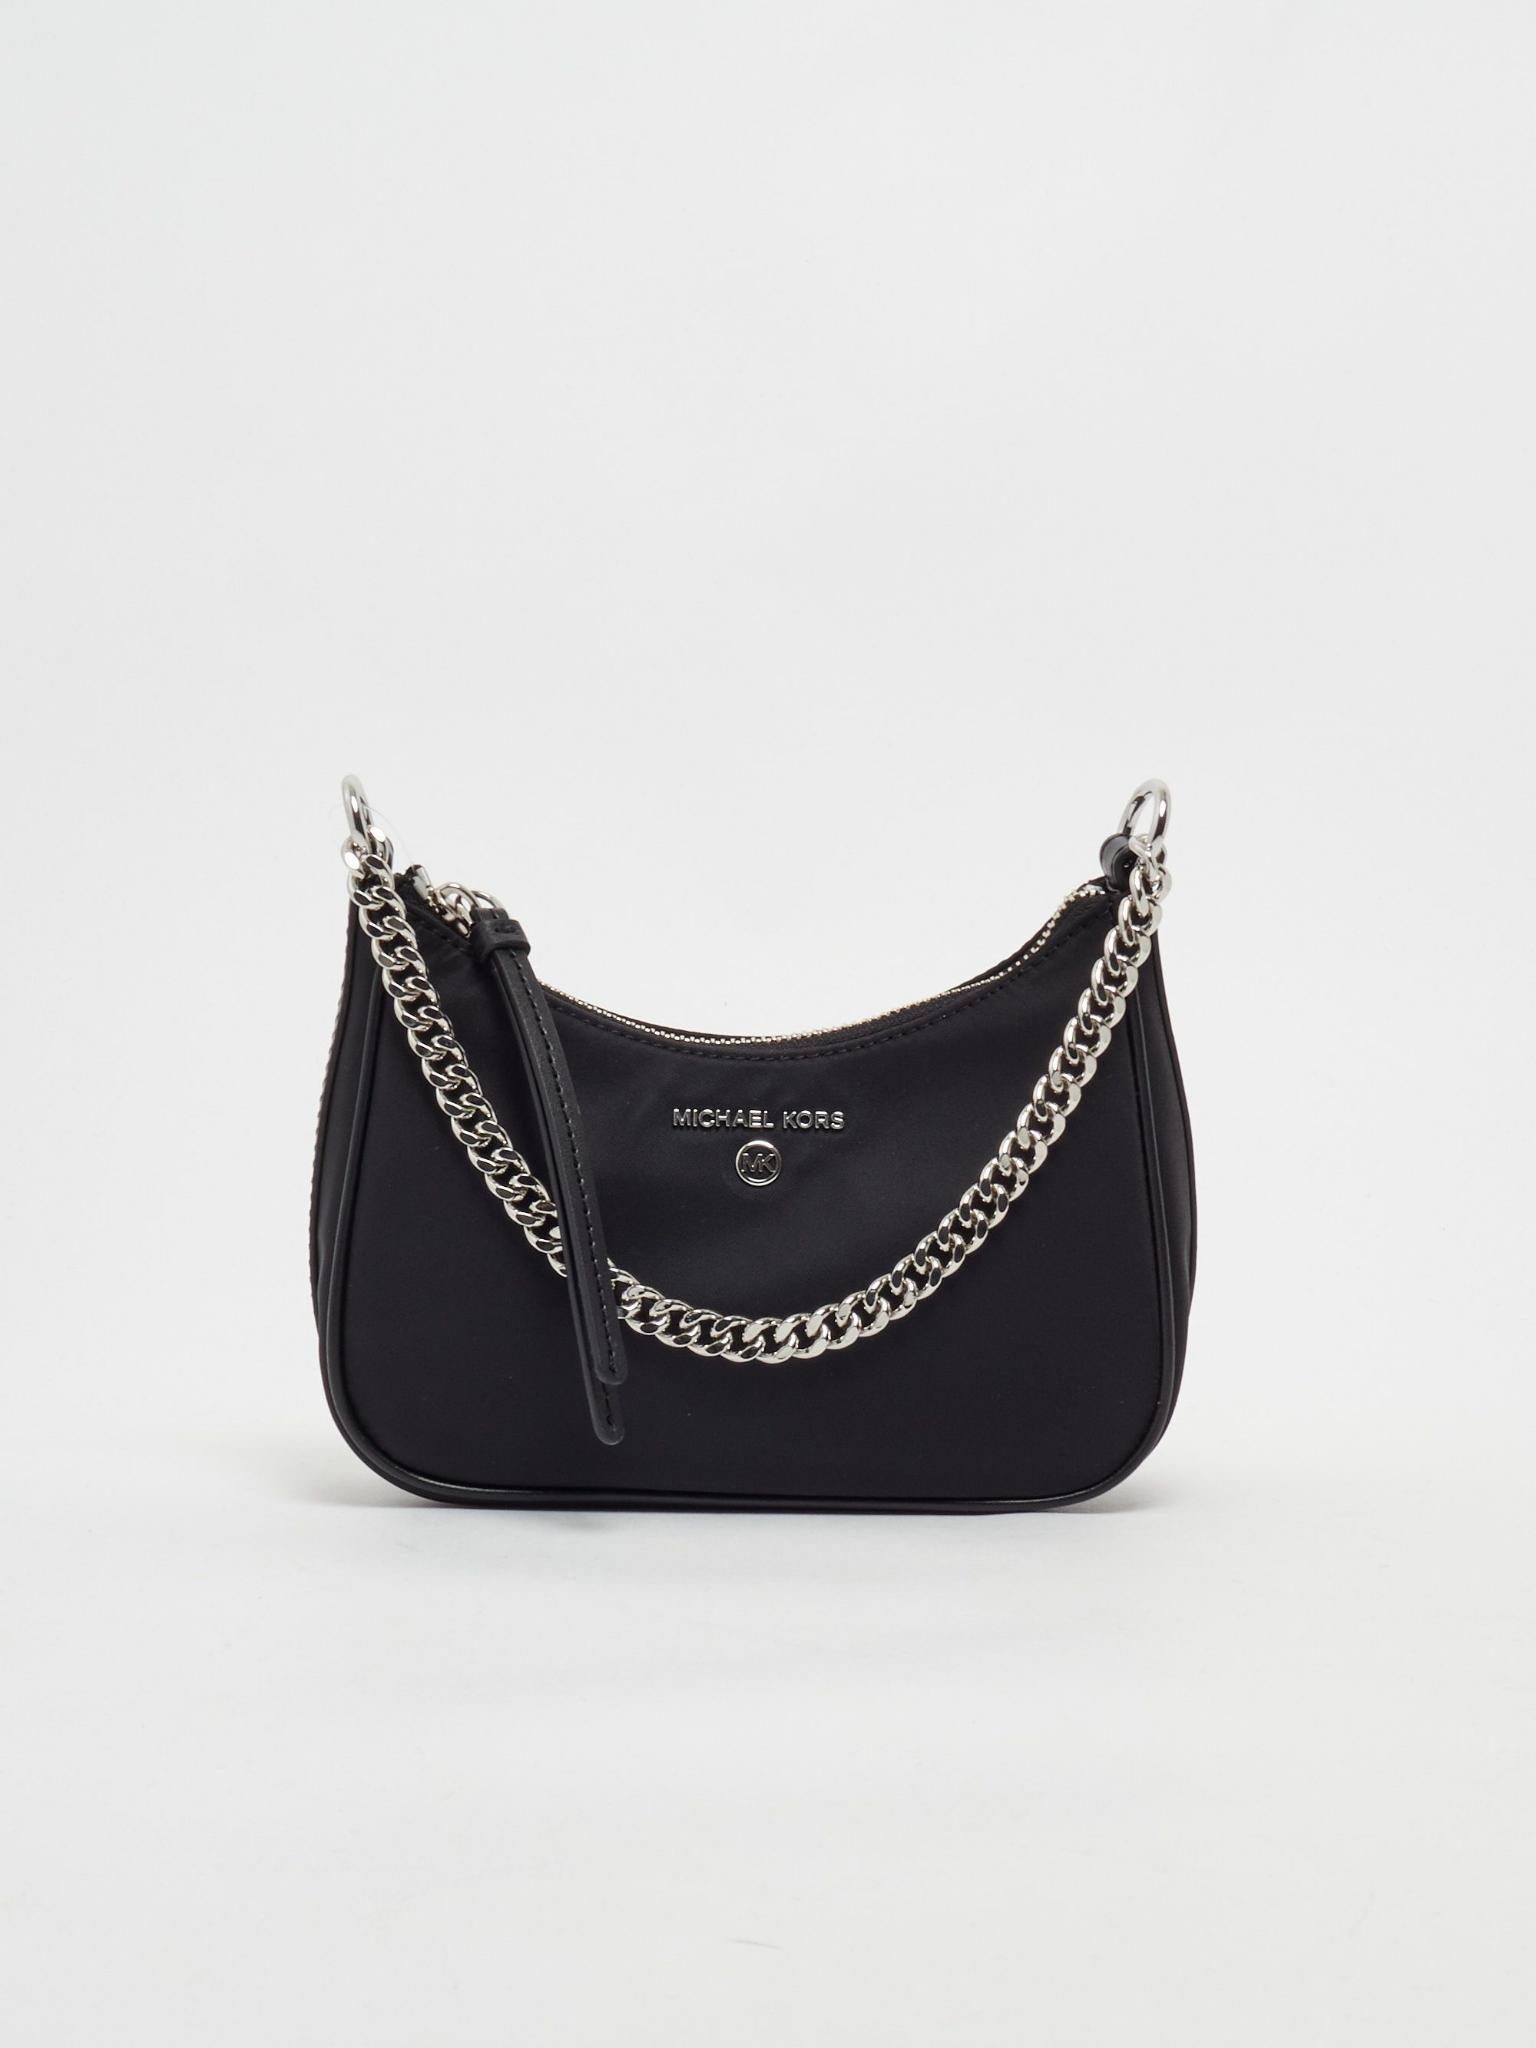MICHAEL-KORS: (673, 1108, 845, 1130)
